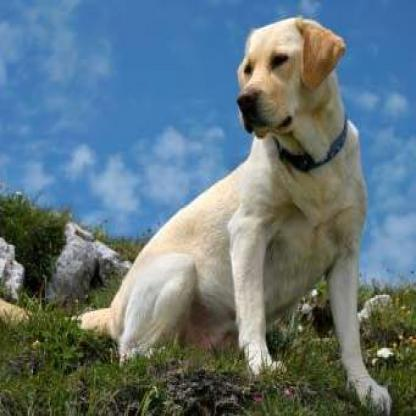Labarador Retriever: (1, 17, 393, 403)
